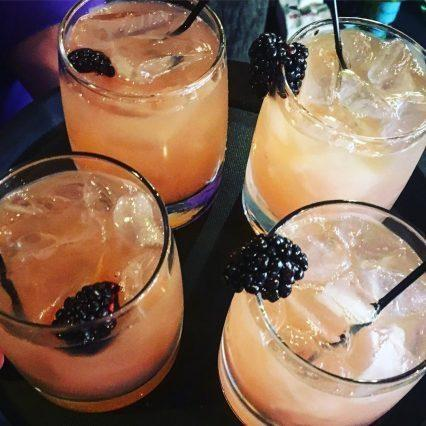glass-normal: (1, 151, 186, 415), (216, 196, 425, 425), (239, 16, 424, 244), (55, 1, 230, 228)
